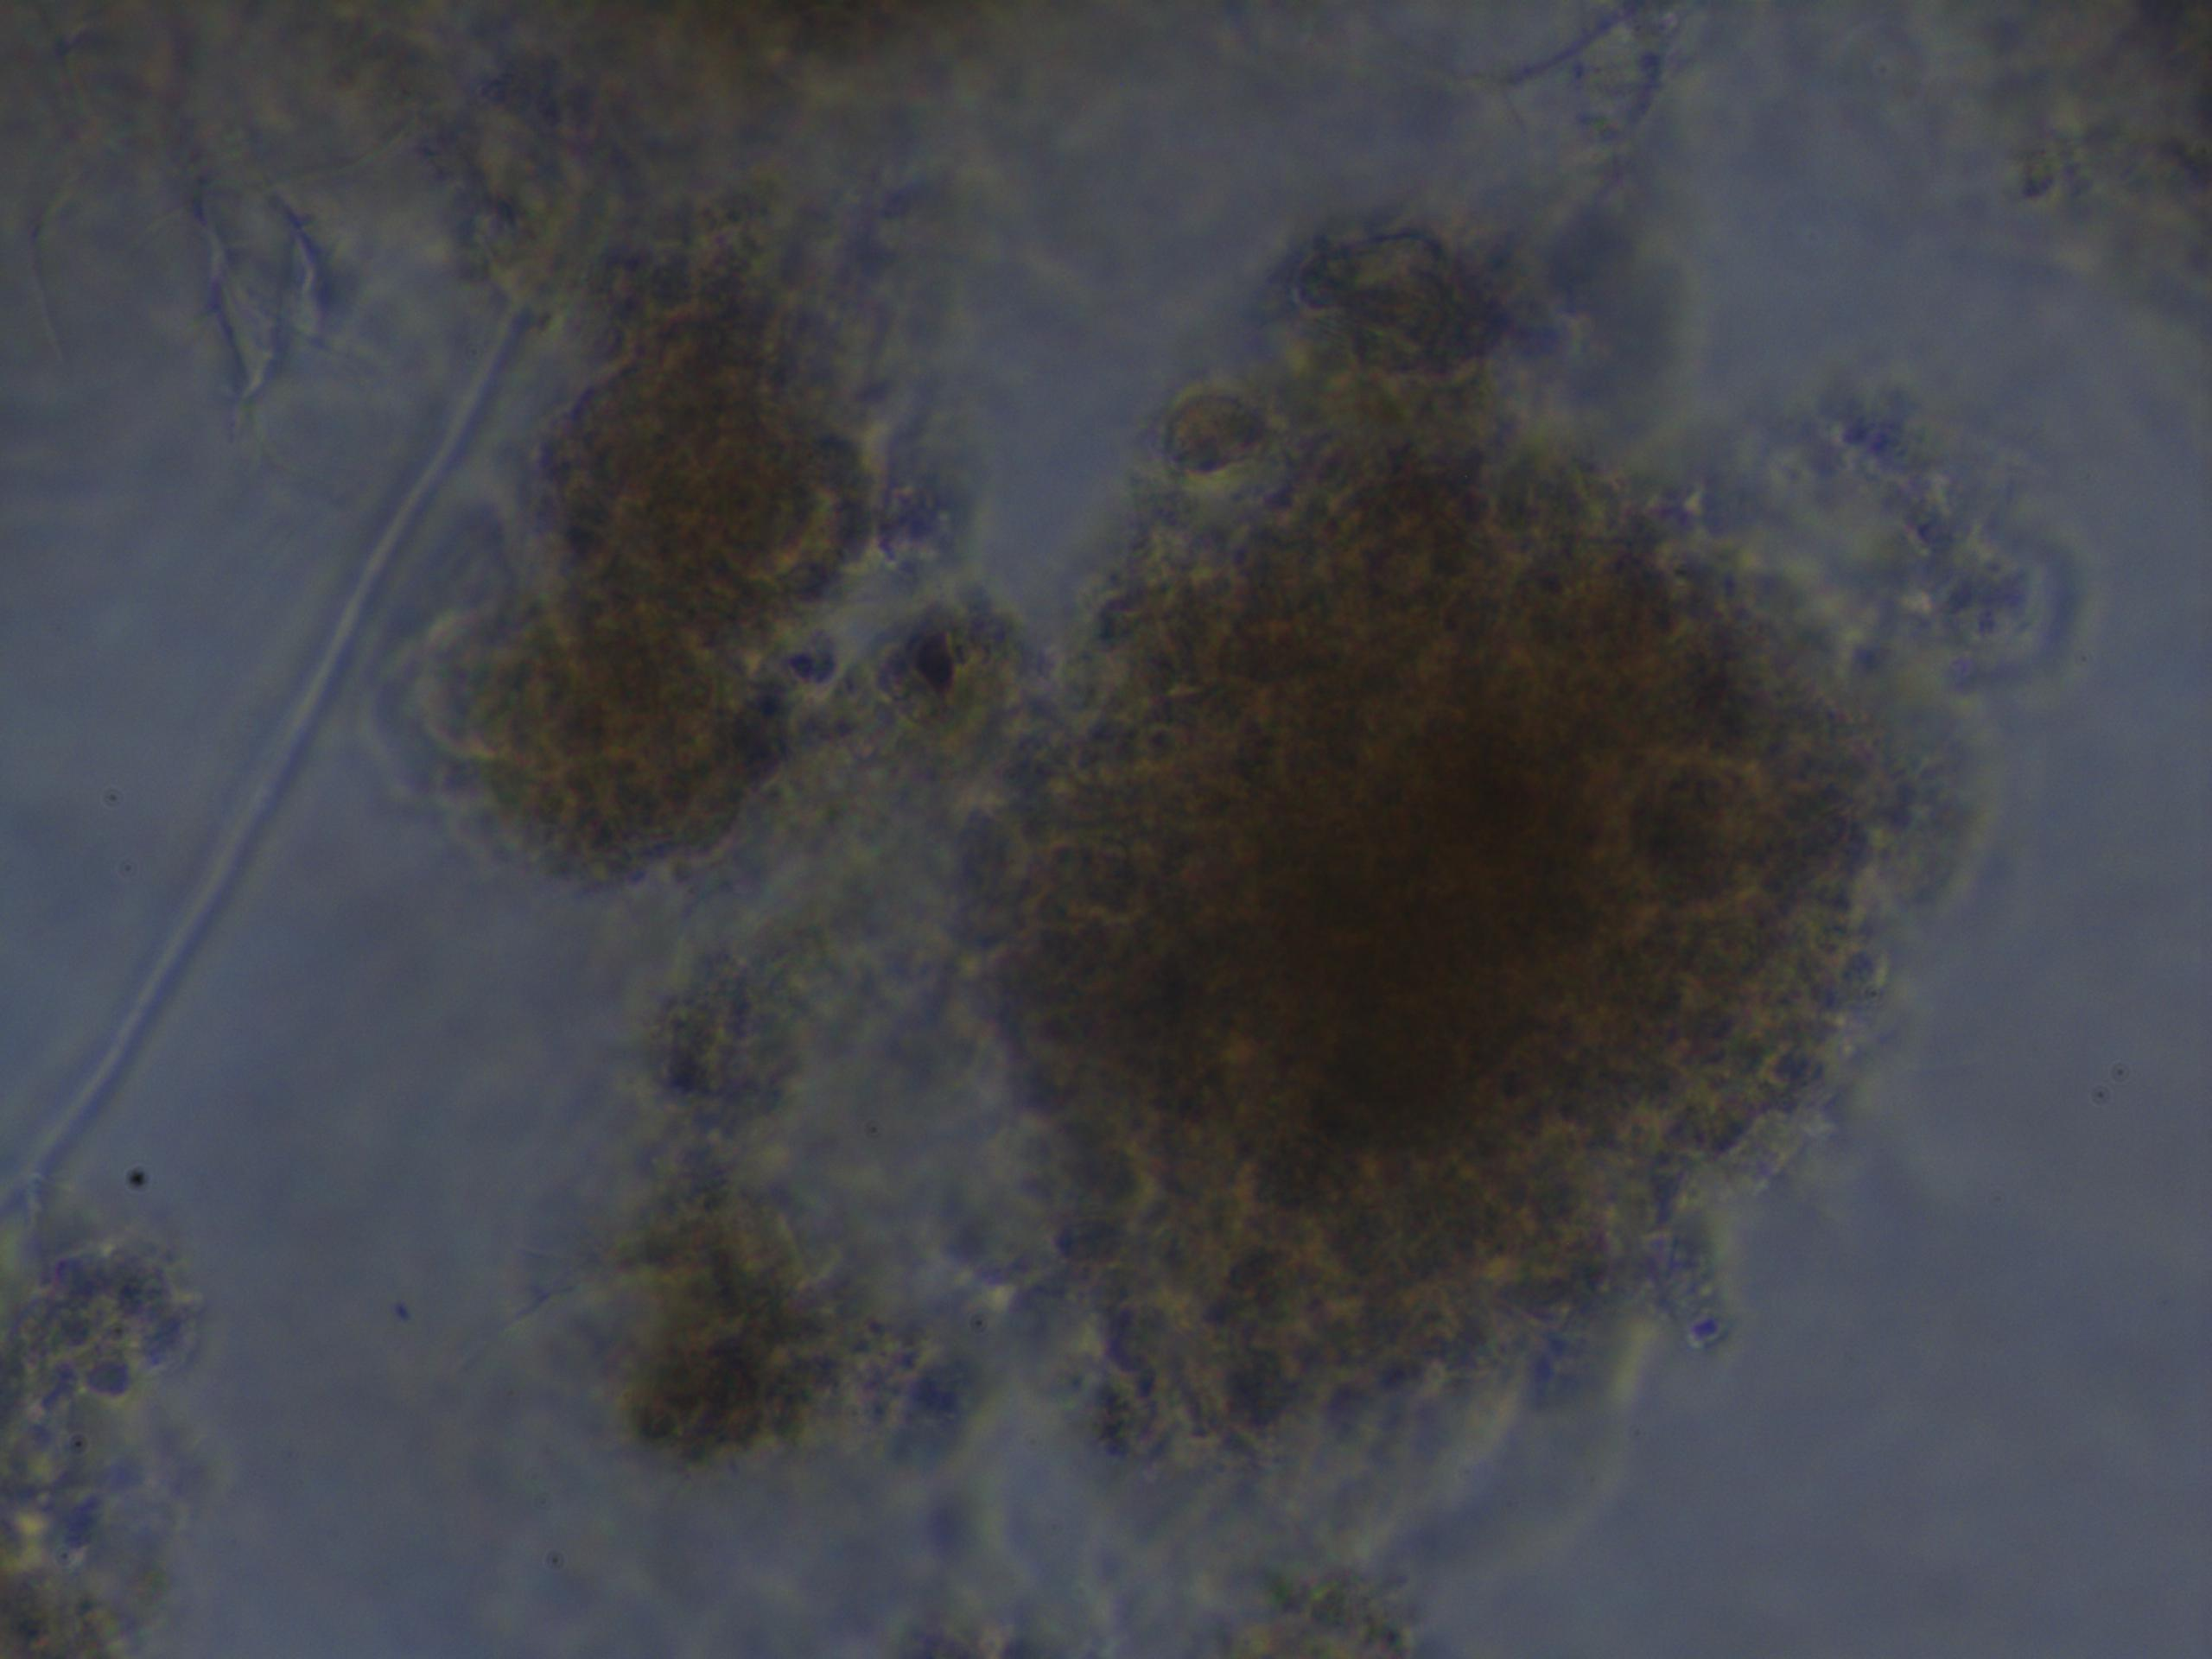filament: (0, 240, 557, 1222)
spherical_floc: (984, 293, 1907, 1469)
